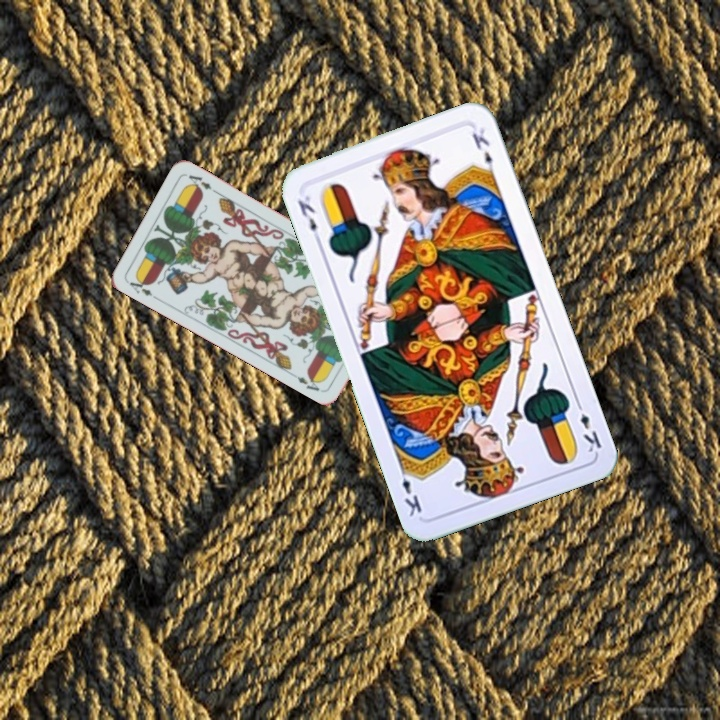EA: (124, 272, 161, 302)
EK: (571, 396, 605, 455), (293, 191, 324, 246)
